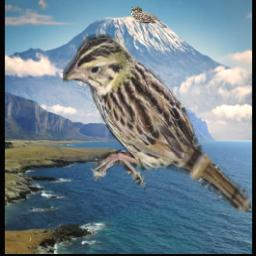Sparrow: (62, 34, 250, 213), (131, 6, 168, 28)
